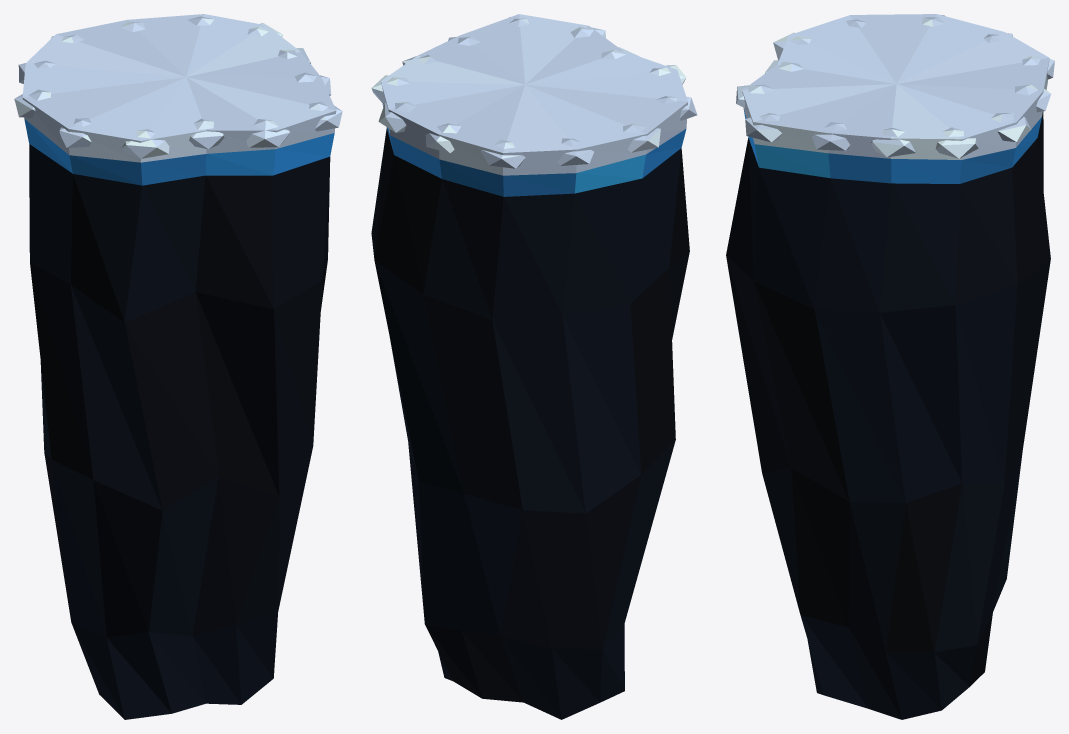
Rendered from ConceptCliff.fbx.
3 renders of one model, left to right at view 1: azimuth 30°, elevation 25°; view 2: azimuth 150°, elevation 25°; view 3: azimuth 270°, elevation 25°, orthographic.
Parts seen in each view (by area): view 1: ConceptCliff; view 2: ConceptCliff; view 3: ConceptCliff.
Part boxes in pixels (<box>): ConceptCliff: <box>14,14,342,719</box>; ConceptCliff: <box>371,14,697,719</box>; ConceptCliff: <box>726,14,1054,719</box>.
Size of the model in its own units: 2.09 by 4.43 by 2.15.
